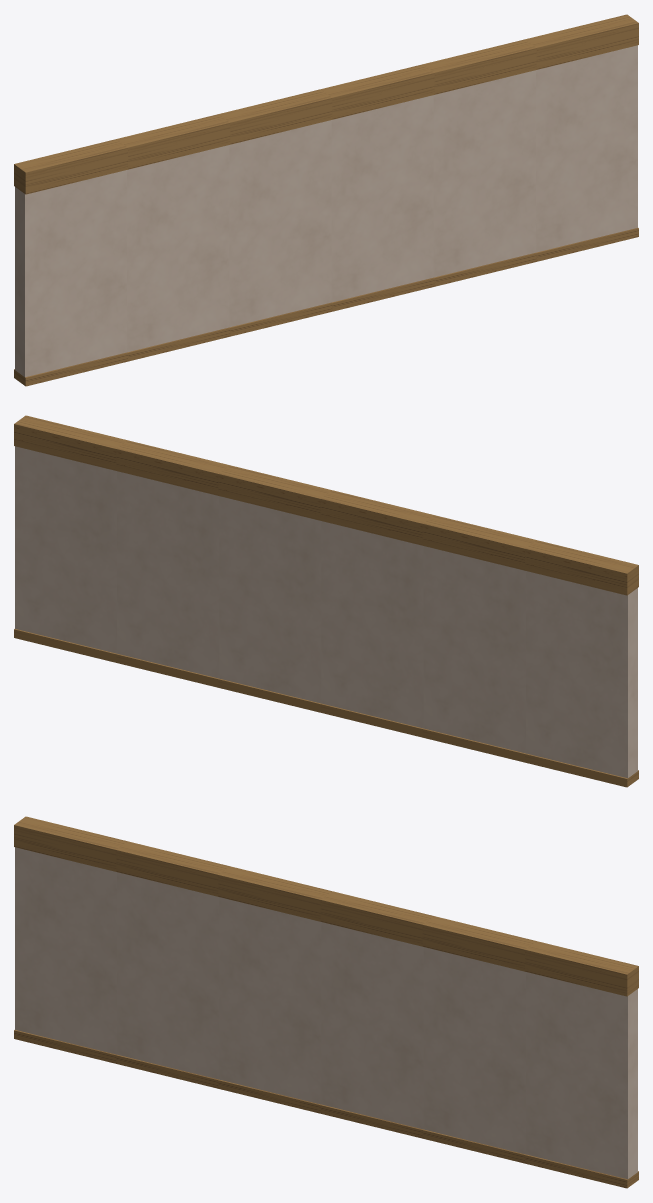
Rendered from wall_6.fbx.
The picture shows the model from 3 angles, top to bottom: view 1: azimuth 30°, elevation 25°; view 2: azimuth 150°, elevation 25°; view 3: azimuth 330°, elevation 25°; orthographic projection.
Visible parts, largest first — view 1: Cube.242; view 2: Cube.242; view 3: Cube.242.
Boxes of the visible parts, left/top/right/bottom form: Cube.242: left=14, top=14, right=638, bottom=386; Cube.242: left=14, top=415, right=638, bottom=787; Cube.242: left=14, top=816, right=638, bottom=1188.
Bounding box in the file's own units: 600 × 200 × 20.
